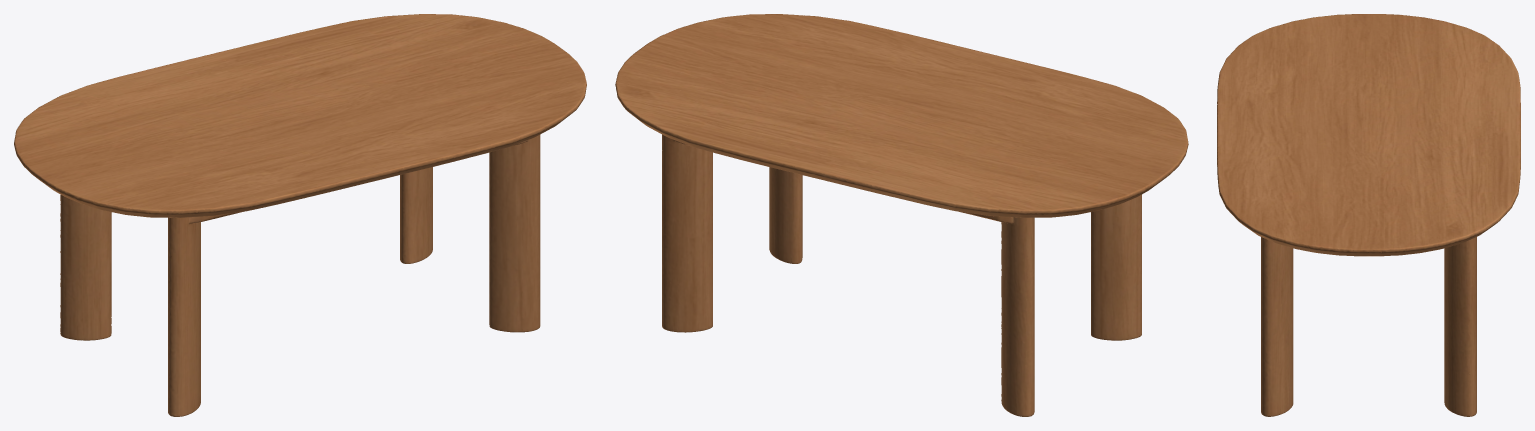
File: mesa_ovalo.glb
3 renders of one model, left to right at view 1: azimuth 30°, elevation 25°; view 2: azimuth 150°, elevation 25°; view 3: azimuth 270°, elevation 25°, orthographic. The views are drawn at different scales.
Parts seen in each view (by area): view 1: world; view 2: world; view 3: world.
Boxes of the visible parts, x1,y1,x2,y2 form: world: (14, 14, 586, 416); world: (615, 14, 1188, 416); world: (1217, 14, 1520, 416).
Bounding box in the file's own units: 1 × 0.4008 × 0.5455.
1 material, 1 textured.
